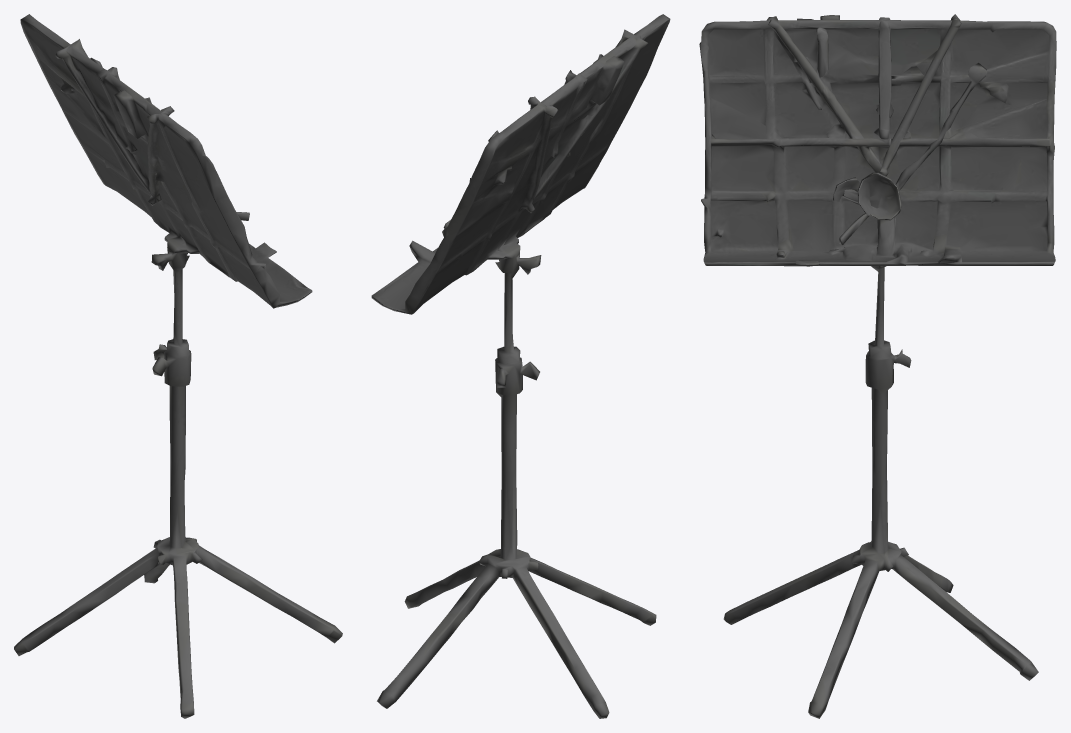
File: musicstand-v2.glb
3 renders of one model, left to right at view 1: azimuth 30°, elevation 25°; view 2: azimuth 150°, elevation 25°; view 3: azimuth 270°, elevation 25°, orthographic. The views are drawn at different scales.
Visible parts, largest first — view 1: prop__musicstand; view 2: prop__musicstand; view 3: prop__musicstand.
Part boxes in pixels (x1,y1,x2,y2): prop__musicstand: [14, 14, 342, 718]; prop__musicstand: [371, 14, 670, 718]; prop__musicstand: [699, 14, 1056, 718].
Bounding box in the file's own units: 0.5988 × 1.3 × 0.6933.
Materials: 1 (1 with a texture image).
